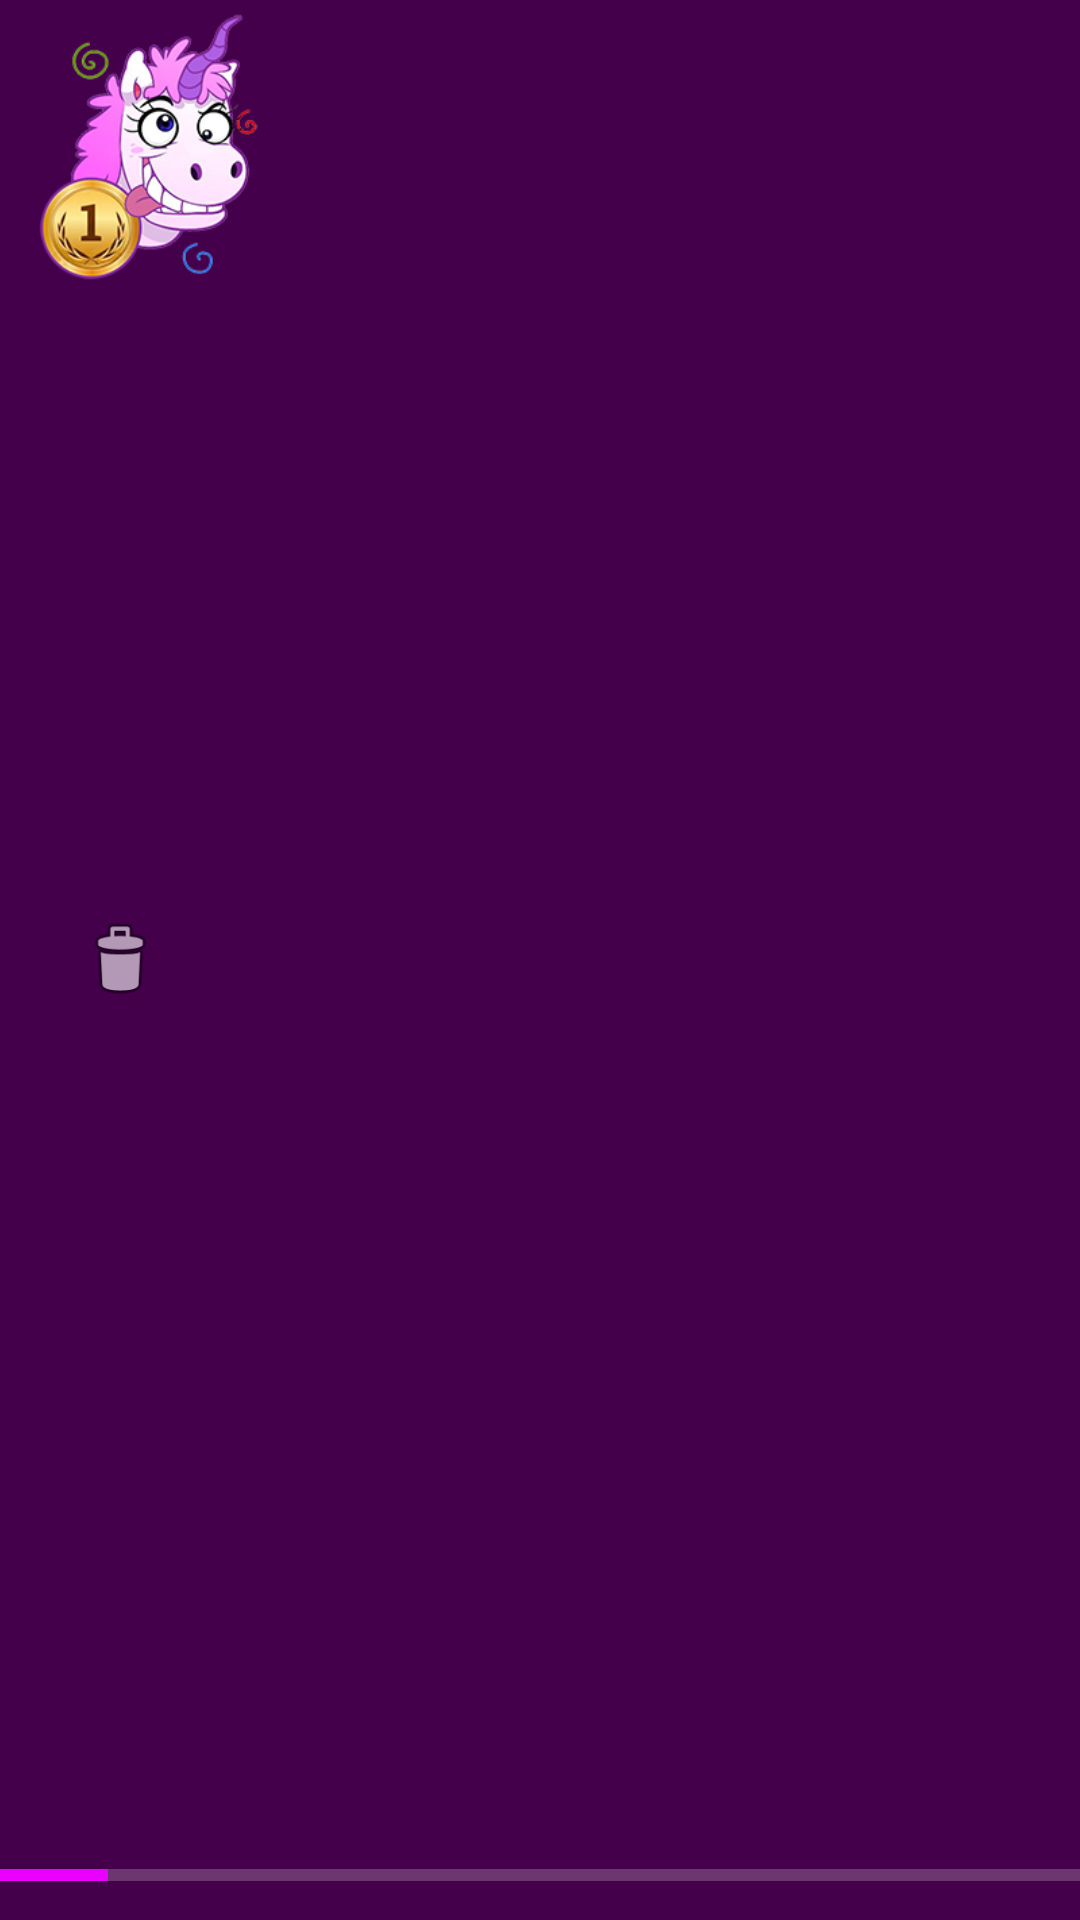

Named icons in this screenshot (1080×1920) and their centers, (x=x, y=y):
delete: (x=120, y=958)
pony with a medal: (x=148, y=147)
